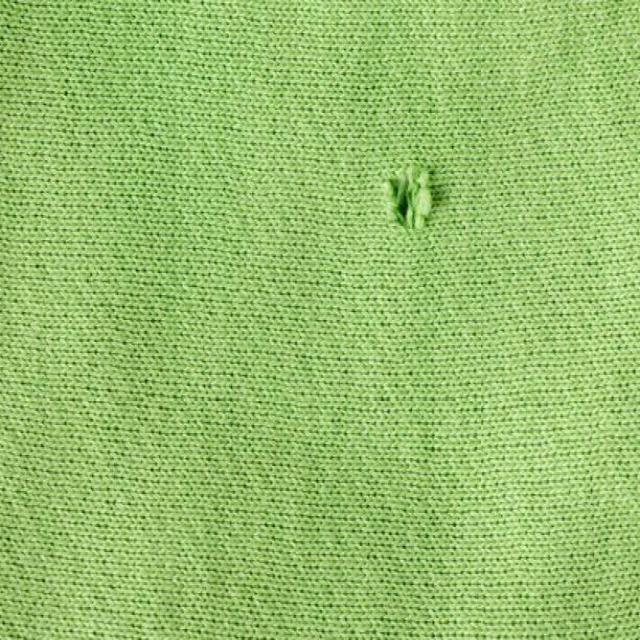Hole: (390, 163, 433, 228)
